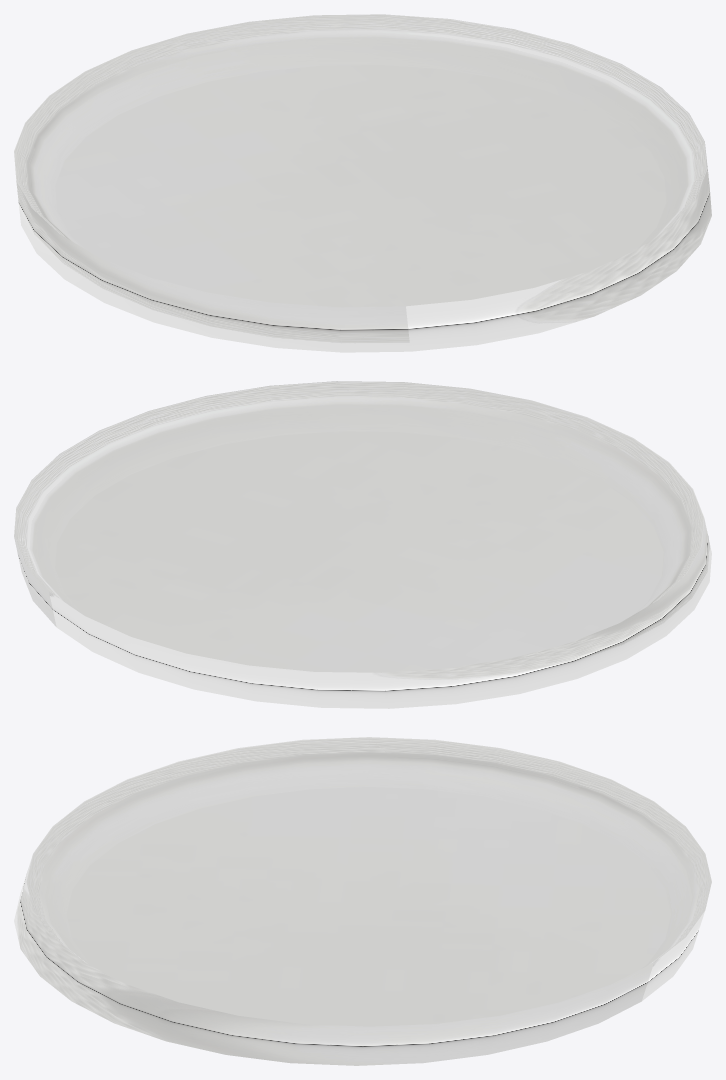
File: plate.fbx
The picture shows the model from 3 angles, top to bottom: view 1: azimuth 30°, elevation 25°; view 2: azimuth 150°, elevation 25°; view 3: azimuth 270°, elevation 25°; orthographic projection.
Visible parts, largest first — view 1: Cylinder; view 2: Cylinder; view 3: Cylinder.
Part boxes in pixels (x1,y1,x2,y2): Cylinder: (14,14,711,352); Cylinder: (14,381,711,708); Cylinder: (14,737,711,1065).
Size of the model in its own units: 200 by 12.84 by 204.
